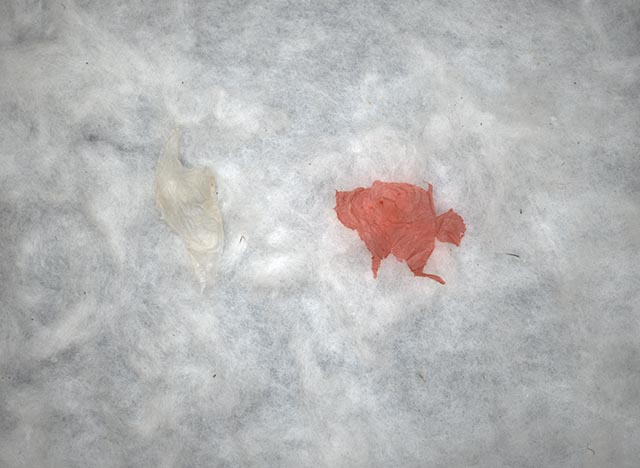plastic film: (330, 179, 468, 288), (153, 126, 226, 297)
